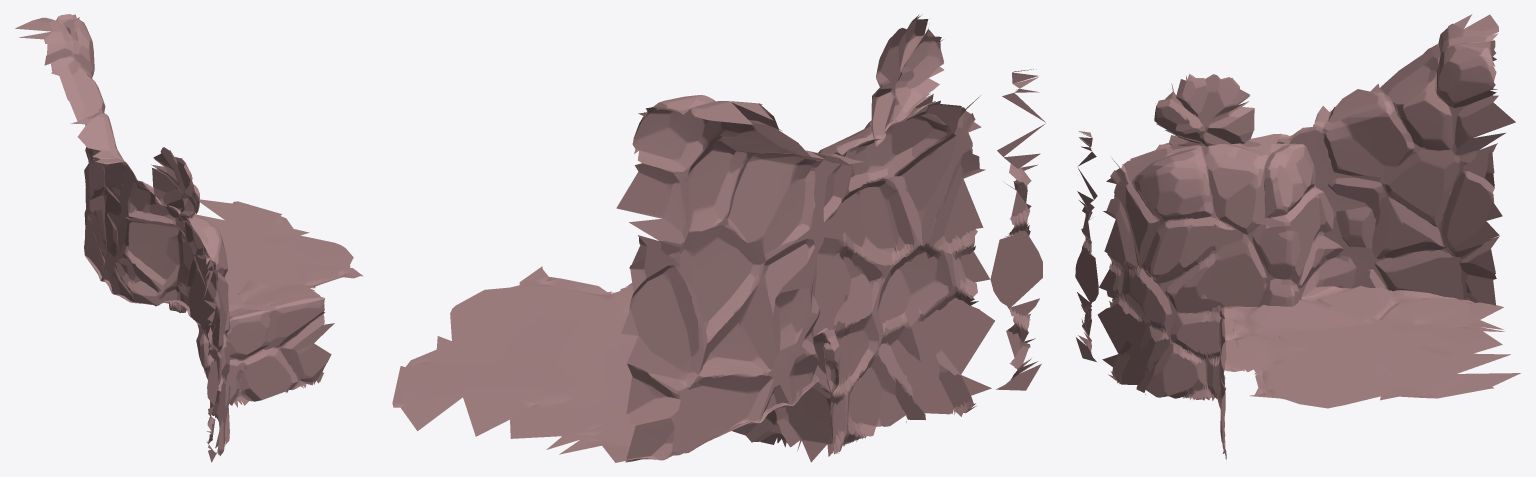
The model's file is cliff_area_2.fbx_Cliff_Area_2_010LODs.fbx.
3 views of the same model, side by side, from view 1: azimuth 30°, elevation 25°; view 2: azimuth 150°, elevation 25°; view 3: azimuth 270°, elevation 25° (orthographic). The views are drawn at different scales.
Visible parts, largest first — view 1: Cliff Area 2.010_LOD0; view 2: Cliff Area 2.010_LOD0; view 3: Cliff Area 2.010_LOD0.
Part boxes in pixels (<box>): Cliff Area 2.010_LOD0: <box>15,14,363,462</box>; Cliff Area 2.010_LOD0: <box>392,14,1045,462</box>; Cliff Area 2.010_LOD0: <box>1075,14,1520,459</box>.
Size of what is drawn, in the model's own units: 4644 by 5384 by 6146.
